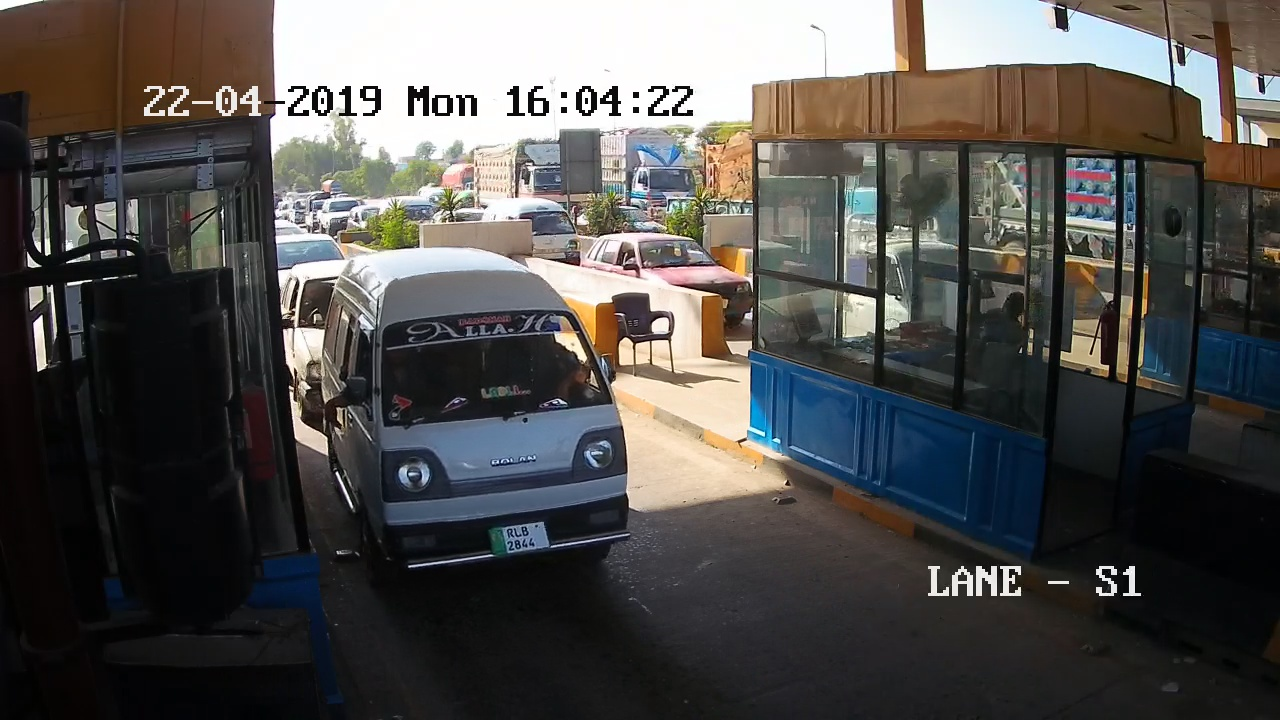Number Plate (Car): (485, 523, 552, 552)
